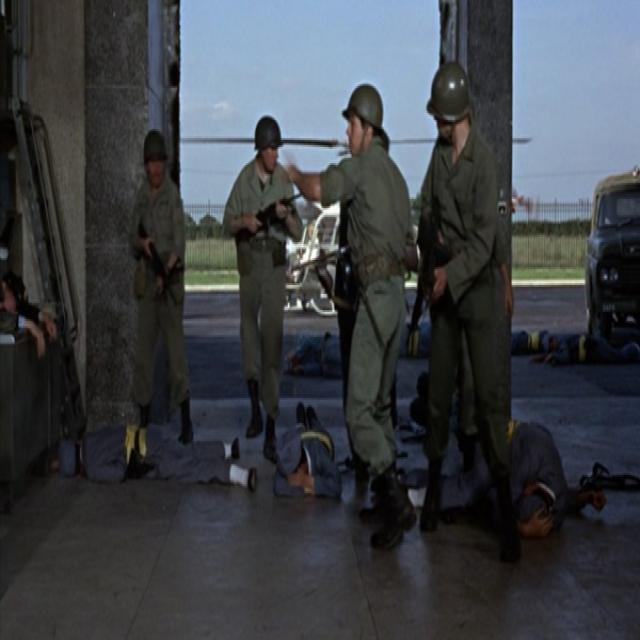rifle: (136, 227, 180, 319), (233, 194, 307, 248)
